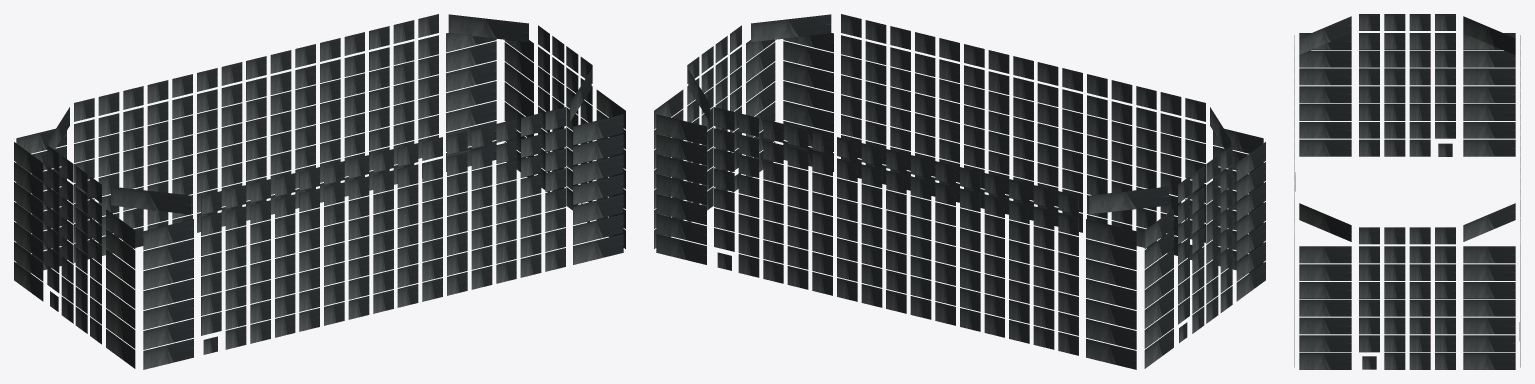
File: TRANS_Building_8stores_Office.obj
3 renders of one model, left to right at view 1: azimuth 30°, elevation 25°; view 2: azimuth 150°, elevation 25°; view 3: azimuth 270°, elevation 25°, orthographic. The views are drawn at different scales.
Parts seen in each view (by area): view 1: TRANS_Building_8stores_Office; view 2: TRANS_Building_8stores_Office; view 3: TRANS_Building_8stores_Office.
Boxes of the visible parts, x1,y1,x2,y2 form: TRANS_Building_8stores_Office: [14, 14, 625, 369]; TRANS_Building_8stores_Office: [654, 14, 1265, 369]; TRANS_Building_8stores_Office: [1294, 14, 1520, 369].
Bounding box in the file's own units: 27.82 × 8.67 × 12.49.
